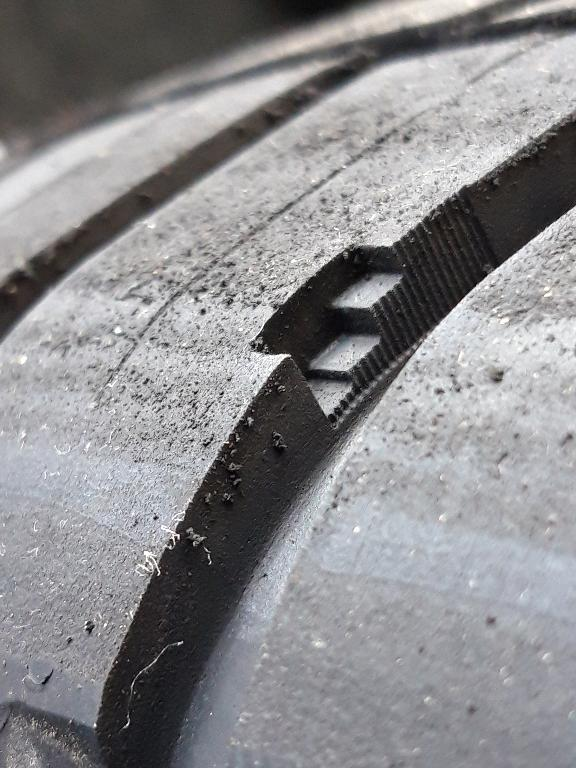temoin:75: (241, 211, 464, 438)
